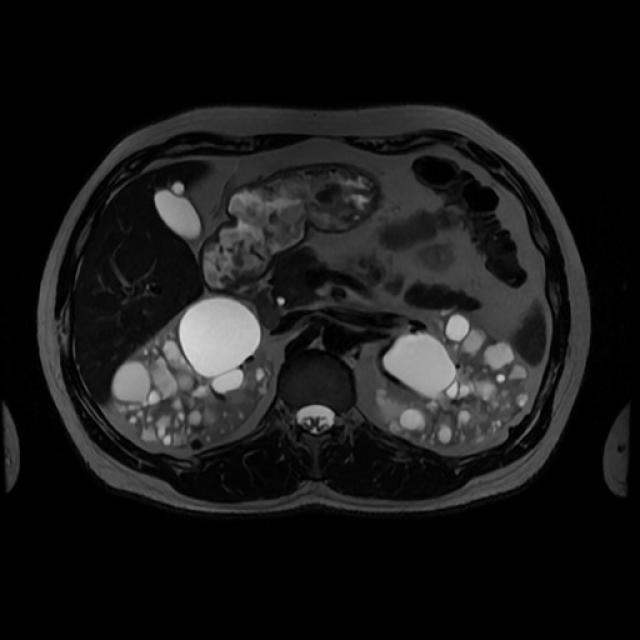sag: (110, 291, 274, 450)
sol: (372, 305, 530, 451)
